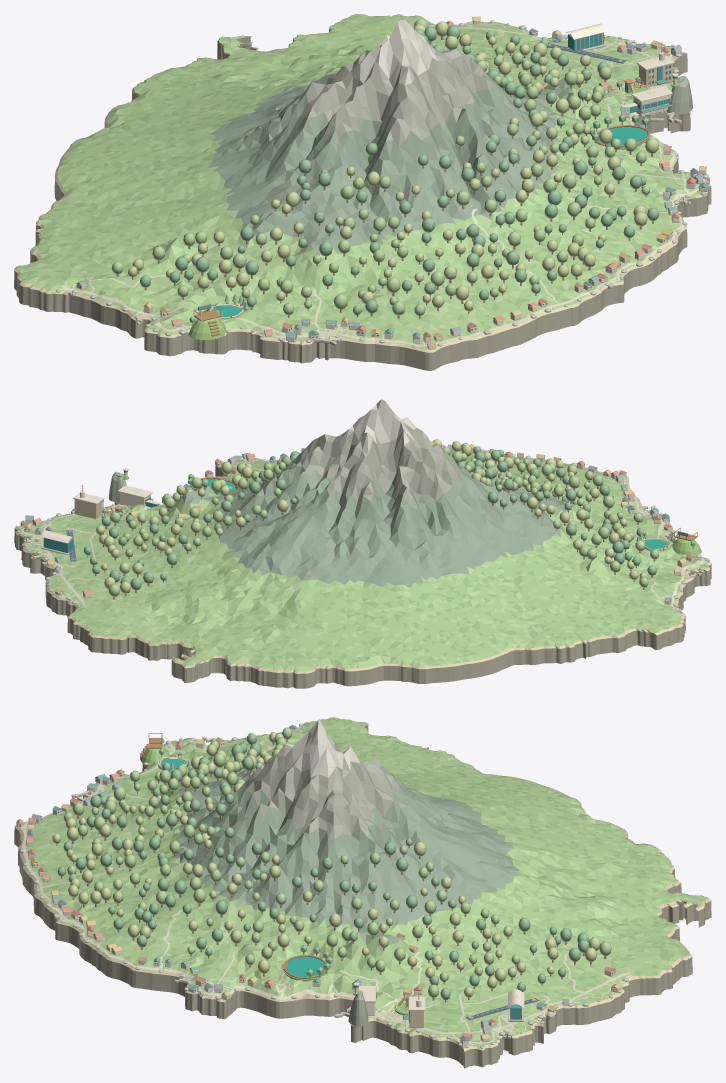
Rendered from rishiri-miniature.glb.
The picture shows the model from 3 angles, top to bottom: view 1: azimuth 30°, elevation 25°; view 2: azimuth 150°, elevation 25°; view 3: azimuth 270°, elevation 25°; orthographic projection. The views are drawn at different scales.
Visible parts, largest first — view 1: Terrain_Meadow_Sage_Mint_Mountain_Highland_Summit, Terrain_Cliff, Vegetation_LeavesSage, Vegetation_LeavesMint, Vegetation_LeavesLime, Roads_Road, Terrain_Sand, Buildings_Walls, Vegetation_Trunk, Terrain_Rock, Buildings_RoofCoral, Buildings_RoofButter (+5 smaller); view 2: Terrain_Meadow_Sage_Mint_Mountain_Highland_Summit, Terrain_Cliff, Vegetation_LeavesMint, Vegetation_LeavesLime, Vegetation_LeavesSage, Terrain_Sand, Roads_Road, Buildings_Walls, Vegetation_Trunk, Terrain_Rock, OshidomariFerryTerminal_Walls, Buildings_RoofCoral; view 3: Terrain_Meadow_Sage_Mint_Mountain_Highland_Summit, Terrain_Cliff, Vegetation_LeavesMint, Vegetation_LeavesSage, Vegetation_LeavesLime, Roads_Road, Terrain_Sand, Buildings_Walls, Vegetation_Trunk, Terrain_Rock, Buildings_RoofCoral, Buildings_RoofButter (+1 smaller).
Part boxes in pixels (x1=…): Terrain_Meadow_Sage_Mint_Mountain_Highland_Summit: x1=17, y1=14, x2=707, y2=349; Terrain_Cliff: x1=14, y1=20, x2=711, y2=370; Vegetation_LeavesSage: x1=140, y1=25, x2=659, y2=315; Vegetation_LeavesMint: x1=112, y1=18, x2=650, y2=315; Vegetation_LeavesLime: x1=128, y1=21, x2=658, y2=311; Roads_Road: x1=58, y1=22, x2=705, y2=346; Terrain_Sand: x1=14, y1=14, x2=711, y2=352; Buildings_Walls: x1=76, y1=20, x2=708, y2=349; Vegetation_Trunk: x1=116, y1=36, x2=653, y2=318; Terrain_Rock: x1=56, y1=20, x2=708, y2=347; Buildings_RoofCoral: x1=171, y1=20, x2=695, y2=346; Buildings_RoofButter: x1=143, y1=16, x2=706, y2=337; Terrain_Meadow_Sage_Mint_Mountain_Highland_Summit: x1=18, y1=399, x2=708, y2=671; Terrain_Cliff: x1=14, y1=466, x2=711, y2=688; Vegetation_LeavesMint: x1=108, y1=446, x2=658, y2=596; Vegetation_LeavesLime: x1=96, y1=439, x2=647, y2=593; Vegetation_LeavesSage: x1=84, y1=446, x2=656, y2=590; Terrain_Sand: x1=14, y1=450, x2=711, y2=673; Roads_Road: x1=20, y1=450, x2=704, y2=610; Buildings_Walls: x1=24, y1=447, x2=694, y2=604; Vegetation_Trunk: x1=87, y1=456, x2=655, y2=599; Terrain_Rock: x1=15, y1=449, x2=709, y2=611; OshidomariFerryTerminal_Walls: x1=117, y1=485, x2=159, y2=505; Buildings_RoofCoral: x1=32, y1=445, x2=694, y2=594; Terrain_Meadow_Sage_Mint_Mountain_Highland_Summit: x1=18, y1=717, x2=708, y2=1048; Terrain_Cliff: x1=14, y1=723, x2=711, y2=1068; Vegetation_LeavesMint: x1=63, y1=727, x2=611, y2=997; Vegetation_LeavesSage: x1=57, y1=733, x2=589, y2=999; Vegetation_LeavesLime: x1=52, y1=732, x2=600, y2=997; Roads_Road: x1=21, y1=725, x2=632, y2=1045; Terrain_Sand: x1=14, y1=717, x2=711, y2=1051; Buildings_Walls: x1=16, y1=729, x2=620, y2=1046; Vegetation_Trunk: x1=56, y1=739, x2=606, y2=1002; Terrain_Rock: x1=19, y1=723, x2=628, y2=1048; Buildings_RoofCoral: x1=16, y1=741, x2=615, y2=1037; Buildings_RoofButter: x1=27, y1=737, x2=620, y2=1038.
Size of the model in its own units: 91.29 by 23.42 by 80.57.
